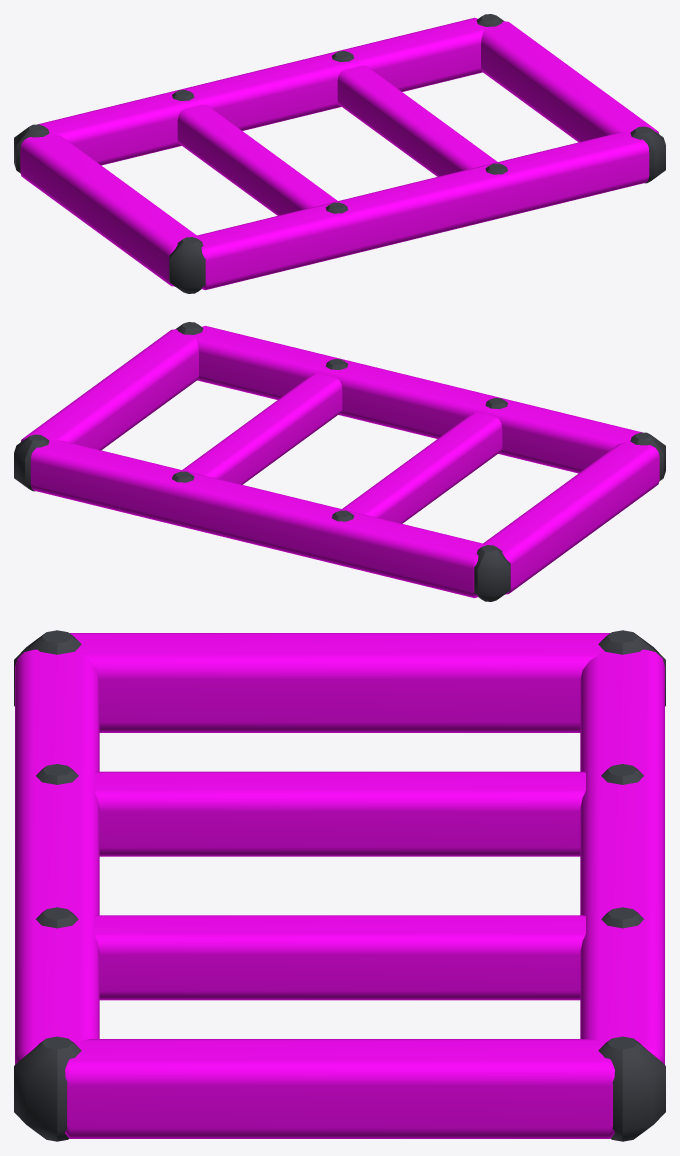
Rendered from objet_chassis_simple.glb.
3 renders of one model, top to bottom at view 1: azimuth 30°, elevation 25°; view 2: azimuth 150°, elevation 25°; view 3: azimuth 270°, elevation 25°, orthographic. The views are drawn at different scales.
Parts seen in each view (by area): view 1: chassis_teinte.008, chassis_soudure.002; view 2: chassis_teinte.008, chassis_soudure.002; view 3: chassis_teinte.008, chassis_soudure.002.
Part boxes in pixels (<box>): chassis_teinte.008: <box>20,17,658,290</box>; chassis_soudure.002: <box>14,14,665,293</box>; chassis_teinte.008: <box>21,325,659,598</box>; chassis_soudure.002: <box>14,322,665,601</box>; chassis_teinte.008: <box>15,633,664,1138</box>; chassis_soudure.002: <box>14,630,665,1141</box>.
Bounding box in the file's own units: 0.3706 × 0.036 × 0.2306.
